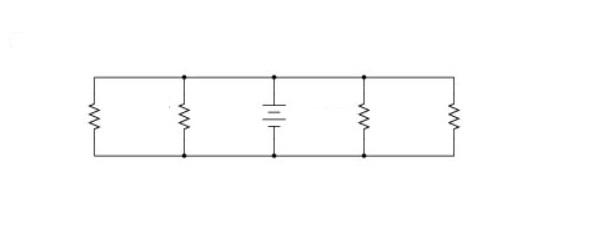resistor: (342, 92, 385, 139), (163, 91, 200, 136), (438, 91, 470, 139), (74, 94, 109, 137)
